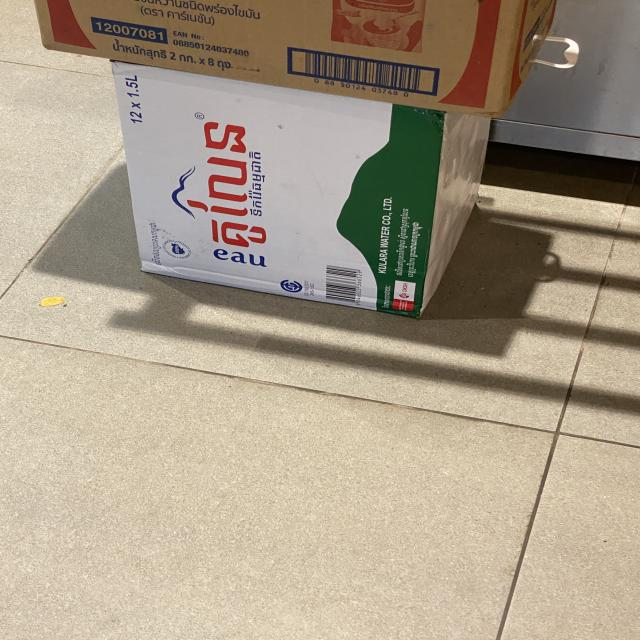1: (392, 207, 412, 276), (405, 220, 426, 279)
191: (313, 78, 410, 98)
421: (171, 38, 253, 59)
565: (93, 19, 166, 43)
624: (303, 280, 309, 292)
631: (169, 51, 178, 61)
675: (309, 288, 315, 296)
838: (206, 57, 216, 67)
858: (354, 270, 366, 307)
893: (381, 284, 392, 309)
Yolov11kh: (176, 119, 287, 252), (247, 148, 268, 219), (146, 221, 163, 268)
